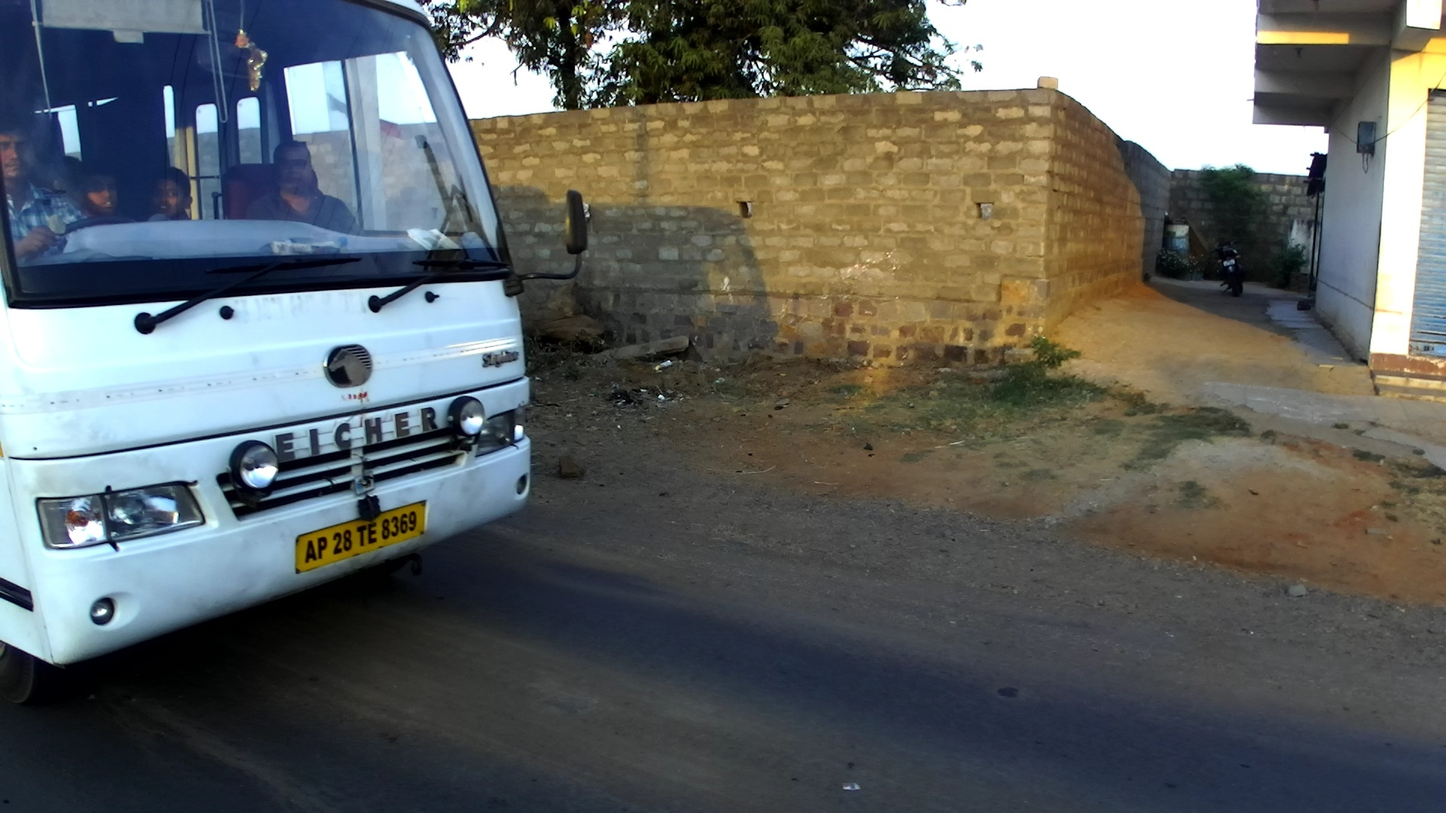bus: (1, 1, 590, 707)
motorcycle: (1215, 233, 1246, 302)
